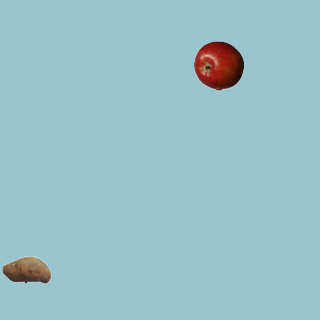Apple Braeburn: (193, 40, 243, 90)
Potato Sweet: (1, 244, 51, 294)
